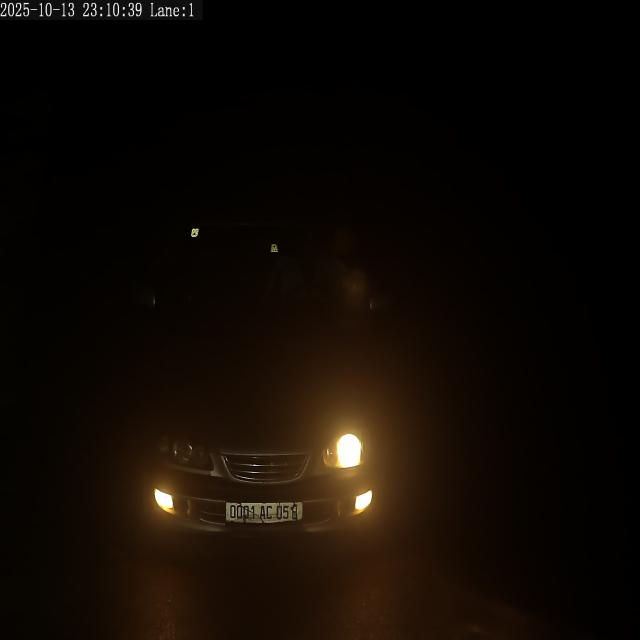BUS: (226, 503, 302, 522)
